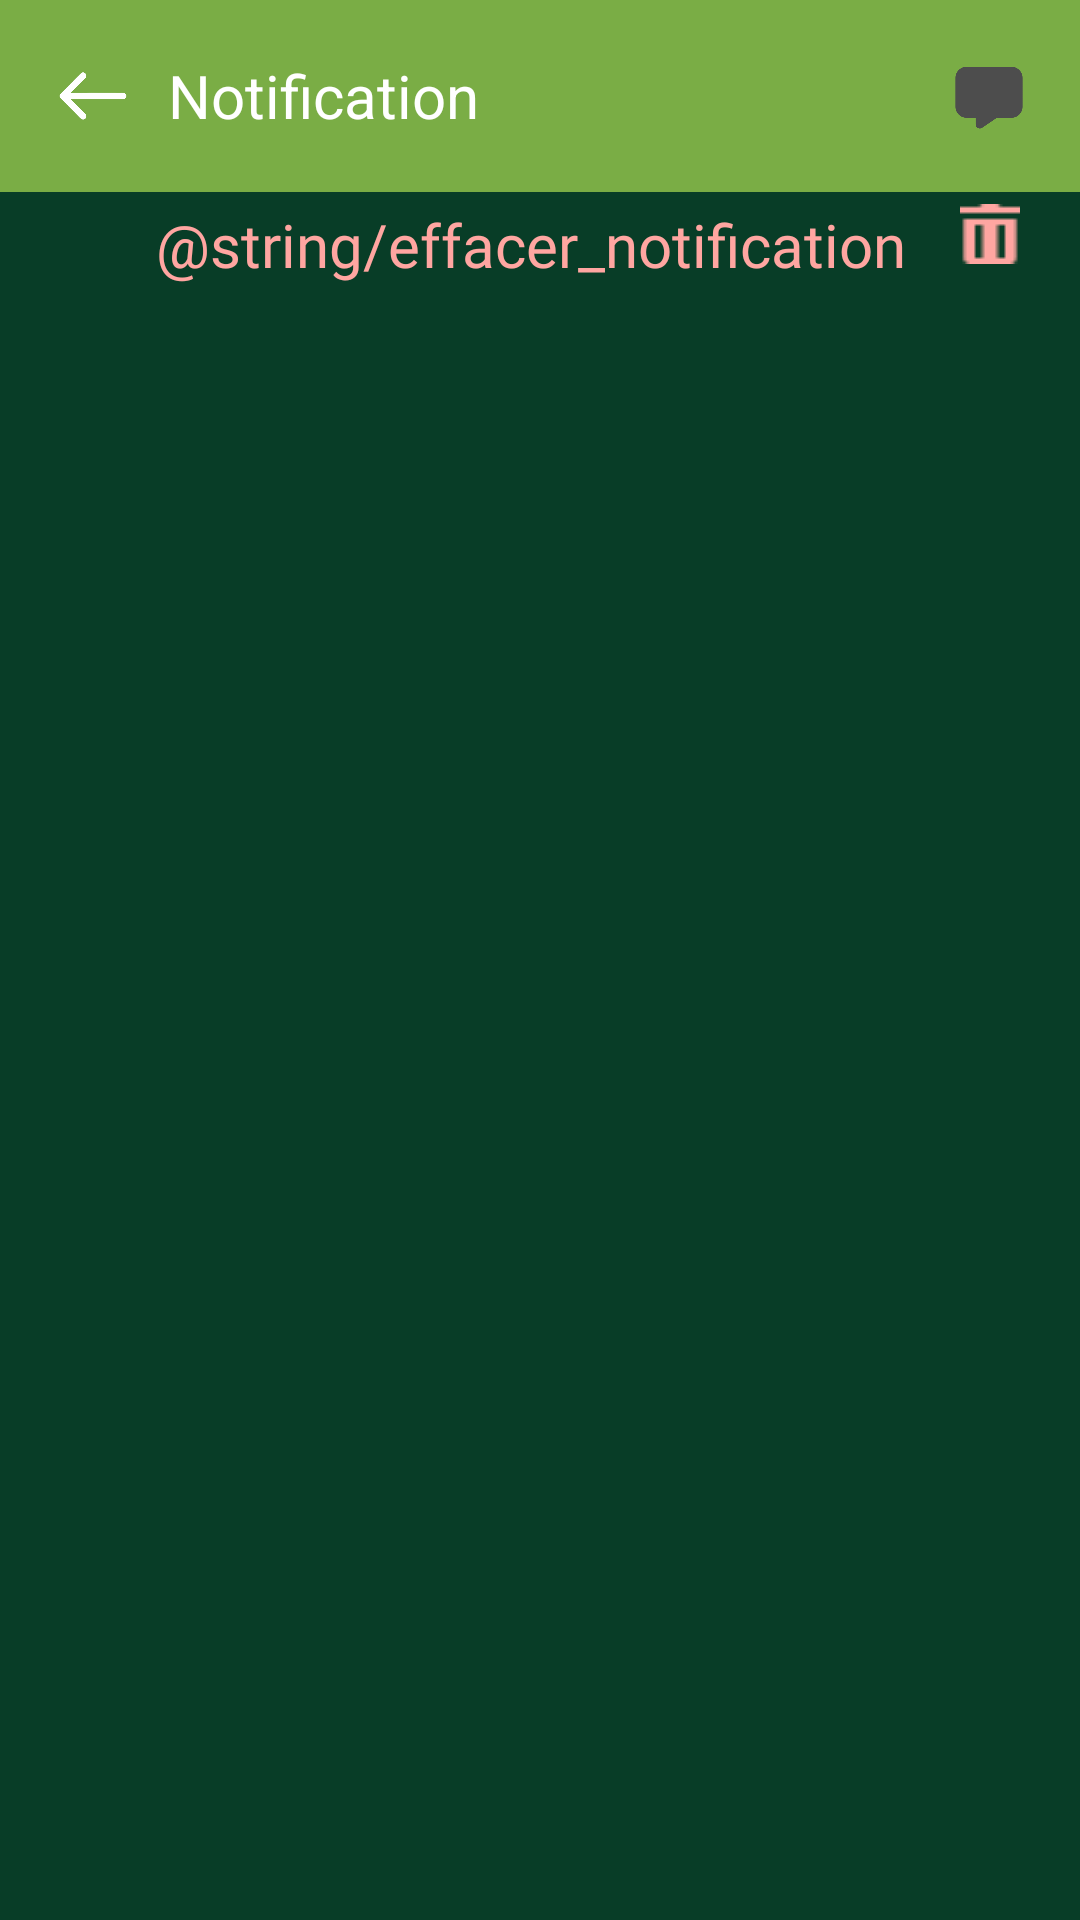

Screen size 1080*1920. Icon name, then its box in pixels as (x1, y1, x2, y2):
delete: (960, 204, 1020, 264)
fleche: (59, 72, 127, 120)
message grise: (955, 67, 1023, 129)
